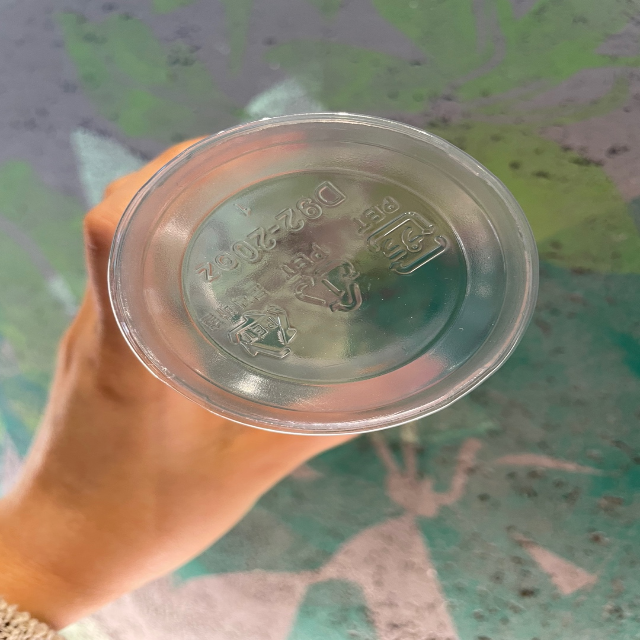pet: (348, 187, 460, 280), (194, 280, 303, 373), (273, 240, 376, 321)
